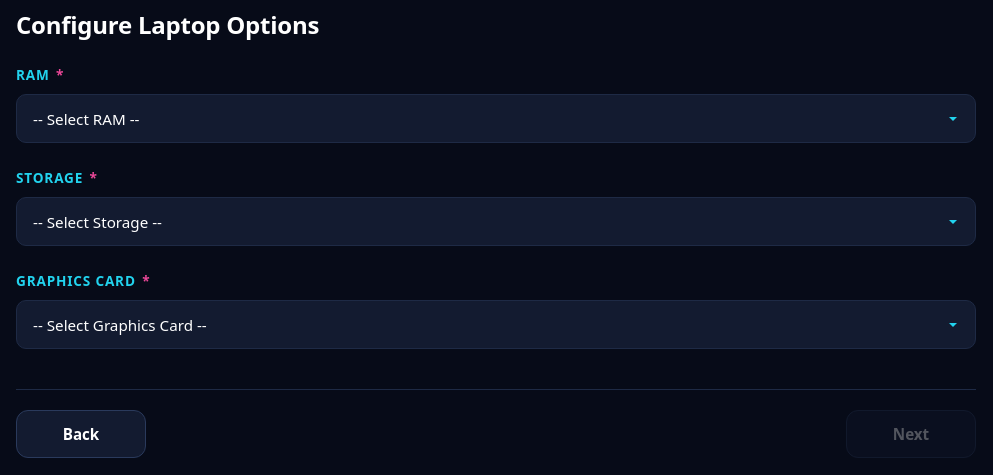
Test: Step2Options › disabled next button › enables next button when all Laptop fields are filled
Step 1. Select "16GB" in the dropdown labelled "RAM *" → (496, 119), box [16, 94, 976, 143]
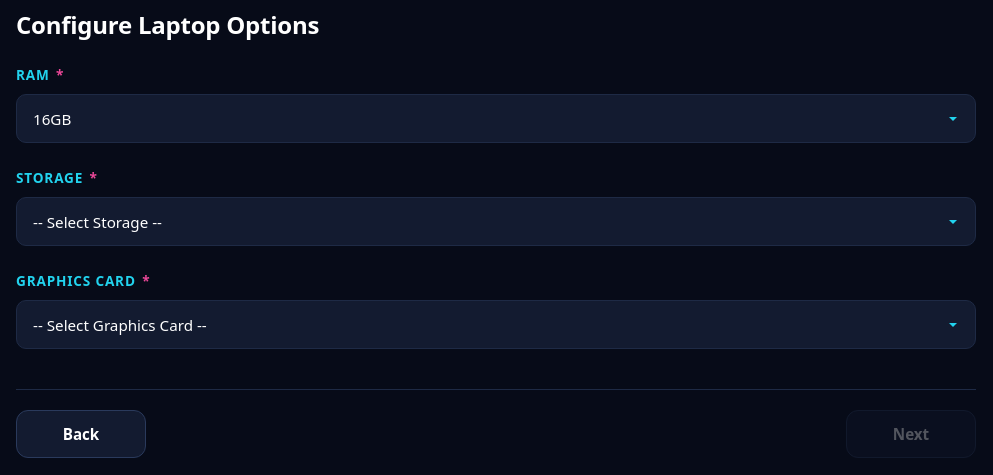
Step 2. Select "512GB SSD" in the dropdown labelled "Storage *" → (496, 222), box [16, 197, 976, 246]
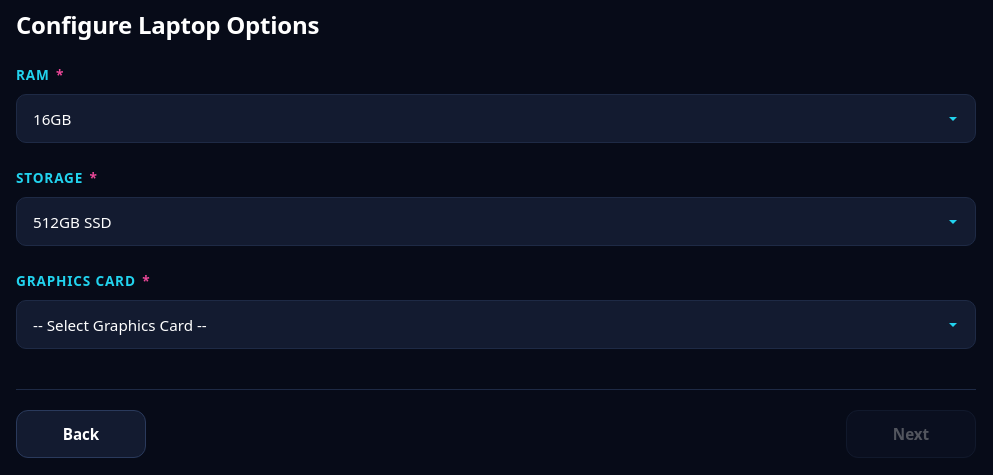
Step 3. Select "NVIDIA RTX 3060" in the dropdown labelled "Graphics Card *" → (496, 325), box [16, 300, 976, 349]
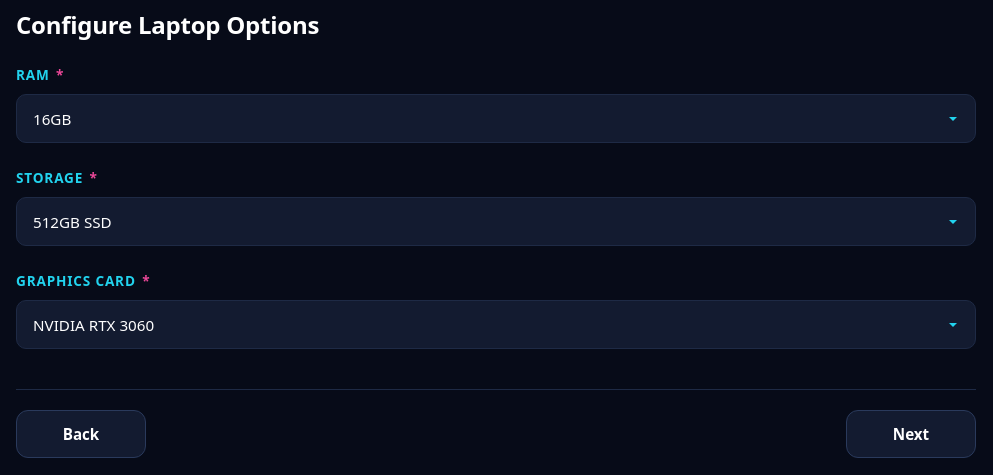
expect the button "Next" is enabled: met, box [846, 410, 976, 458]
